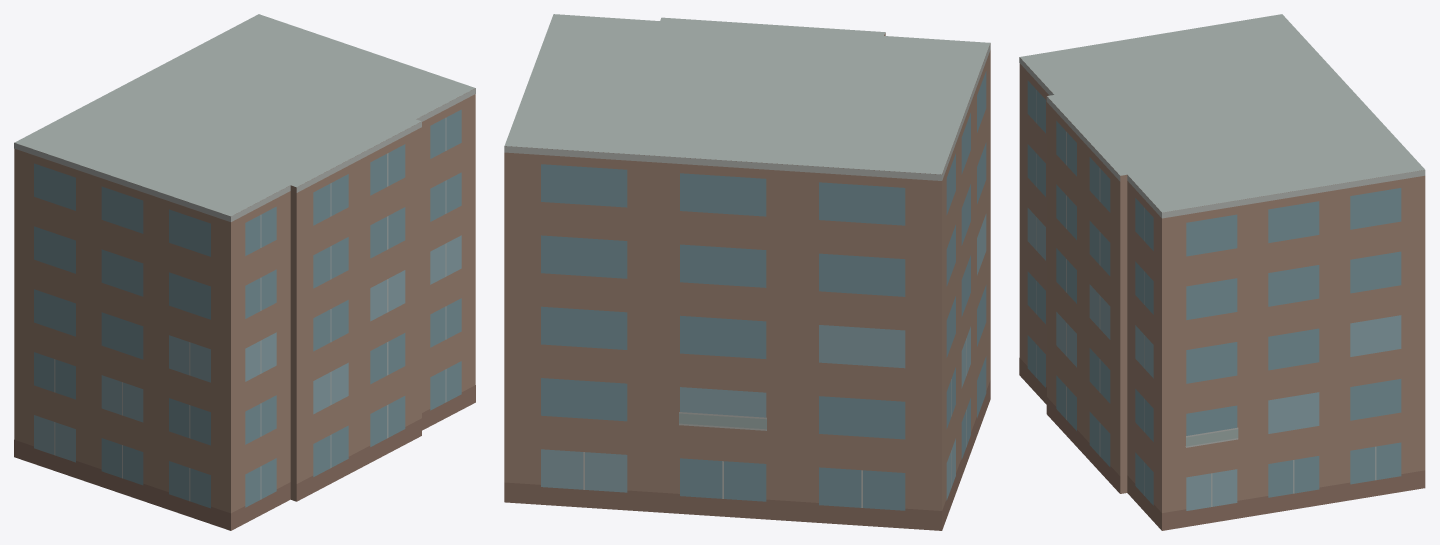
The model's file is survey-upis-32702047.glb.
3 renders of one model, left to right at view 1: azimuth 30°, elevation 25°; view 2: azimuth 150°, elevation 25°; view 3: azimuth 270°, elevation 25°, orthographic. The views are drawn at different scales.
Parts seen in each view (by area): view 1: survey-upis-32702047.tmp; view 2: survey-upis-32702047.tmp; view 3: survey-upis-32702047.tmp.
Part boxes in pixels (x1,y1,x2,y2): survey-upis-32702047.tmp: (14, 14, 475, 530); survey-upis-32702047.tmp: (504, 14, 990, 530); survey-upis-32702047.tmp: (1019, 14, 1425, 530).
Size of the model in its own units: 17.68 by 13.2 by 15.27.
